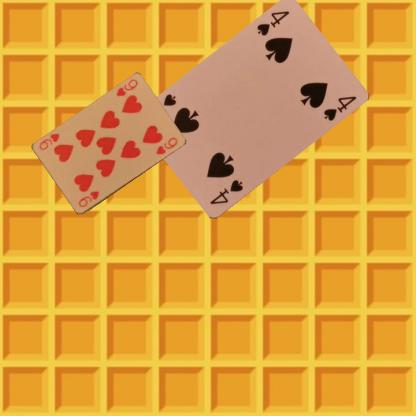4s: (254, 8, 290, 38), (207, 177, 244, 206)
9h: (113, 77, 139, 99), (76, 188, 101, 209)
